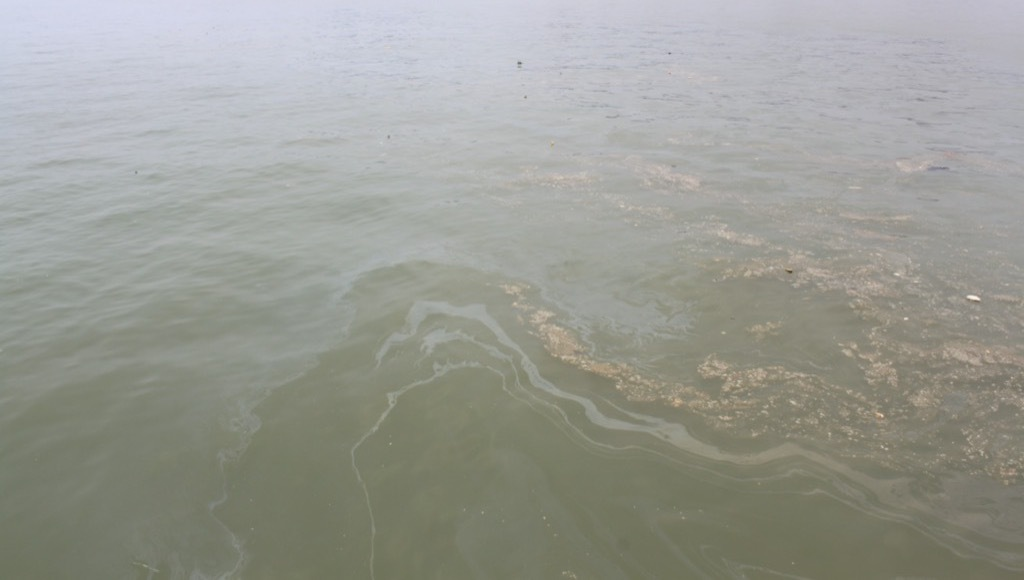organic: (369, 126, 399, 154), (512, 83, 541, 108), (509, 54, 530, 75), (660, 46, 679, 62)
plastic: (956, 282, 989, 317), (779, 258, 803, 285)
